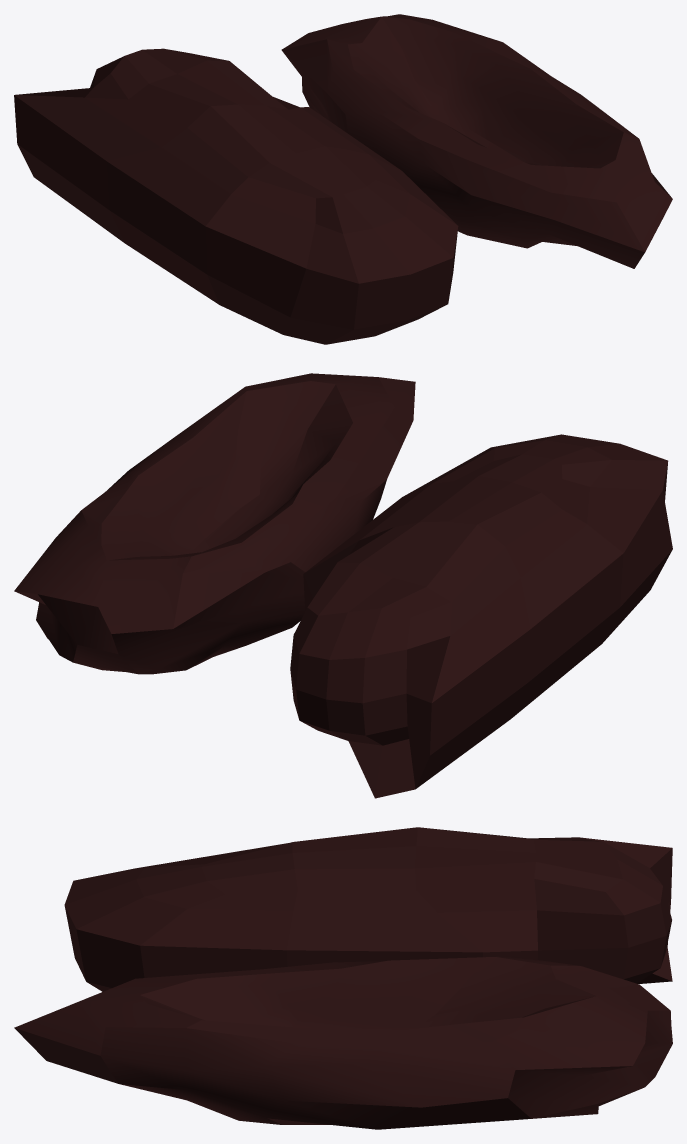
Rendered from pozoMuertos.fbx.
3 views of the same model, one above another, from view 1: azimuth 30°, elevation 25°; view 2: azimuth 150°, elevation 25°; view 3: azimuth 270°, elevation 25° (orthographic). The views are drawn at different scales.
Visible parts, largest first — view 1: Cube.001, Cube; view 2: Cube.001, Cube; view 3: Cube, Cube.001.
Part boxes in pixels (x1,y1,x2,y2): Cube.001: [14, 48, 458, 344]; Cube: [281, 14, 672, 268]; Cube.001: [290, 434, 672, 798]; Cube: [14, 373, 415, 674]; Cube: [14, 956, 672, 1129]; Cube.001: [64, 827, 672, 991].
Size of the model in its own units: 686 by 244 by 845.
